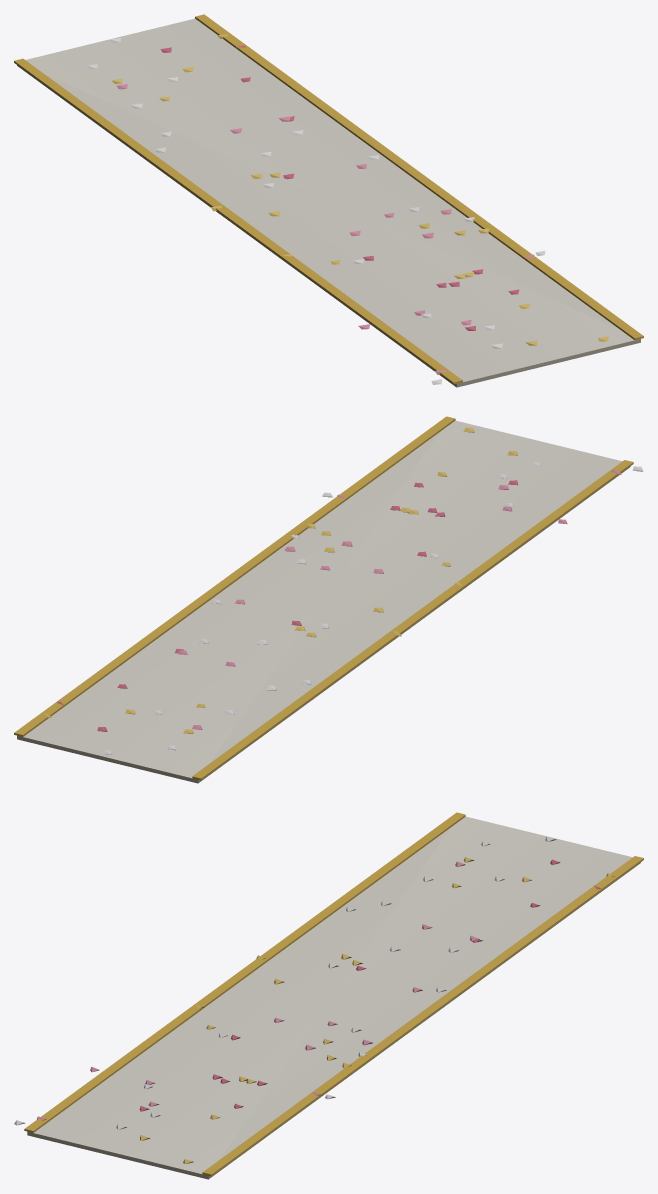
Rendered from petalpath.glb.
3 views of the same model, one above another, from view 1: azimuth 30°, elevation 25°; view 2: azimuth 150°, elevation 25°; view 3: azimuth 330°, elevation 25° (orthographic).
Visible parts, largest first — view 1: base; view 2: base; view 3: base.
Boxes of the visible parts, <box> form: base: <box>14,14,643,387</box>; base: <box>14,416,643,783</box>; base: <box>14,812,643,1179</box>.
Size of the model in its own units: 0.357 by 0.0107 by 1.24.
